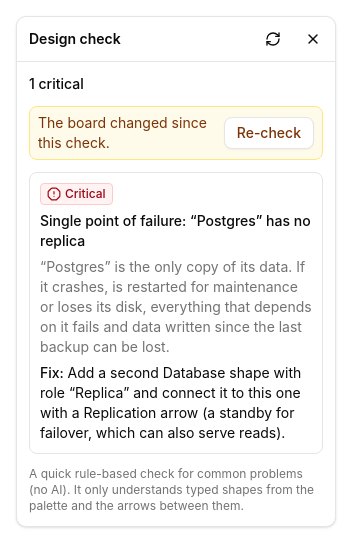
it: FindingsPanel › shows when results are stale and re-checks on request
Expected: the text "The board changed since this check." is shown, [38,113,216,153]
Click the button "Re-check" at (269, 133), box [224,117,314,149]
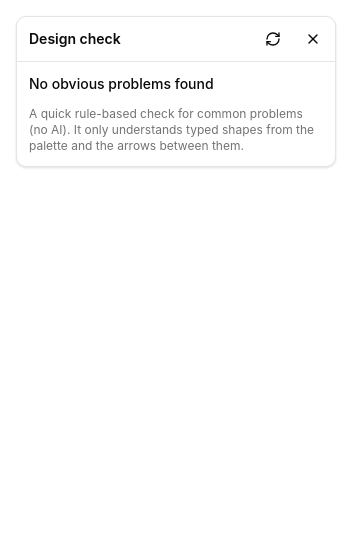
Expected: the text "The board changed since this check." is gone
Expected: the button "has no replica" is gone
